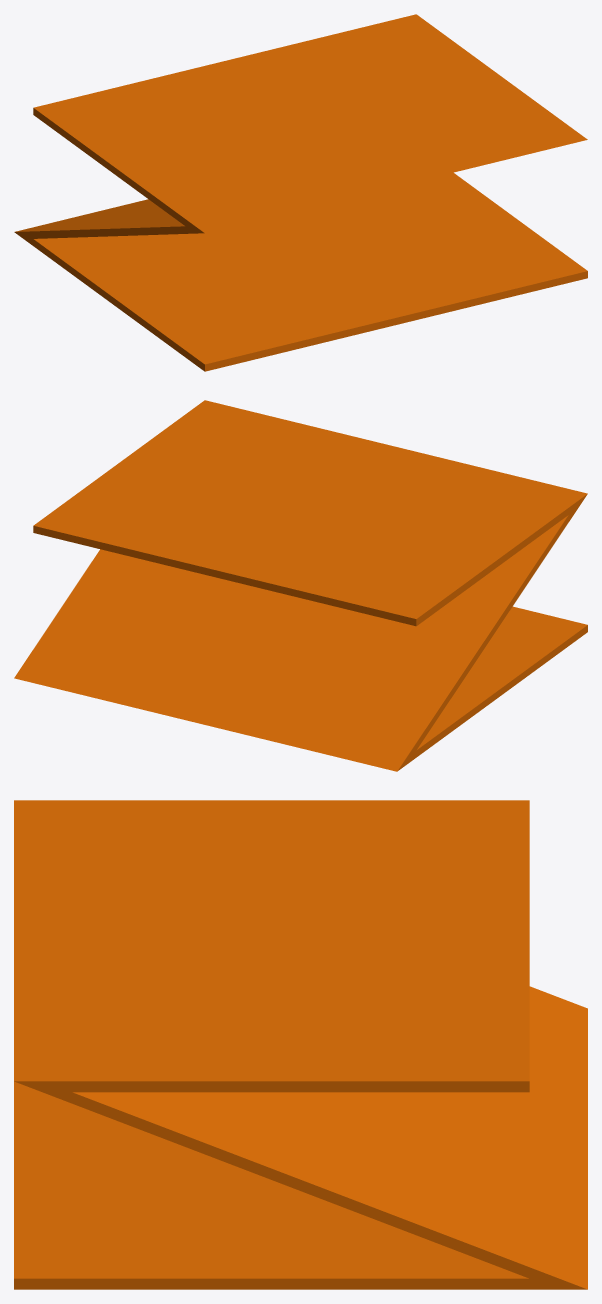
File: spring_1.fbx
3 renders of one model, top to bottom at view 1: azimuth 30°, elevation 25°; view 2: azimuth 150°, elevation 25°; view 3: azimuth 270°, elevation 25°, orthographic. The views are drawn at different scales.
Visible parts, largest first — view 1: spring_1; view 2: spring_1; view 3: spring_1.
Boxes of the visible parts, x1,y1,x2,y2 form: spring_1: (14,14,587,371); spring_1: (14,400,587,771); spring_1: (14,800,587,1289).
Size of the model in its own units: 200 by 69.08 by 173.
